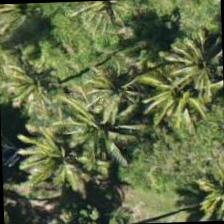Kelapa_Sawit: (130, 49, 223, 142), (56, 86, 149, 179), (18, 111, 111, 204), (72, 40, 164, 134), (0, 42, 85, 136), (156, 20, 223, 114), (64, 0, 157, 48), (173, 146, 223, 222)
